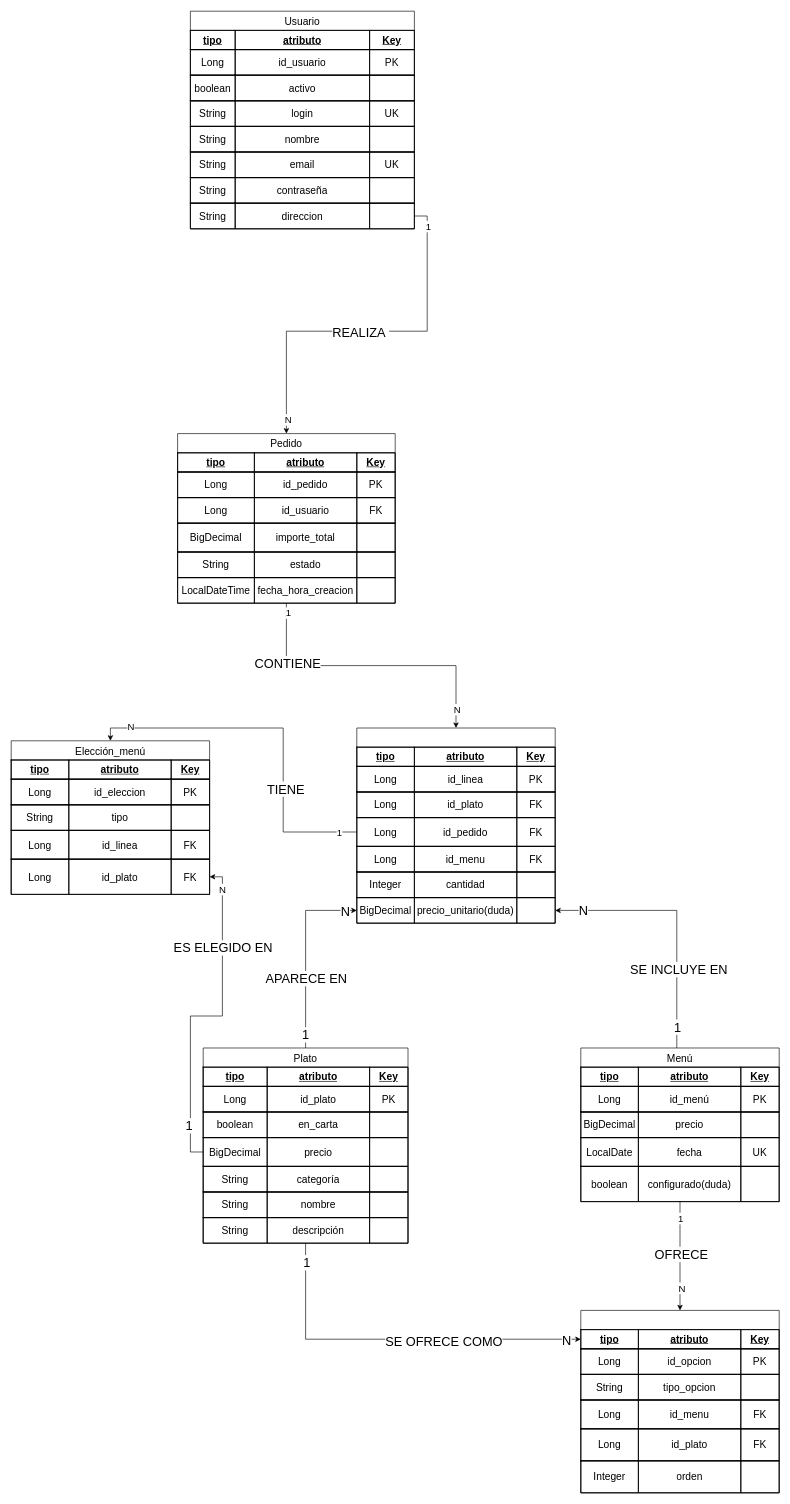
This 790x1504 diagram has some shape labels left out. The box of each missing label's shape, as (x1, y1, x2, y2) in pixels:
Línea_pedido: (356, 727, 555, 923)
Opción_menú: (580, 1310, 779, 1493)
